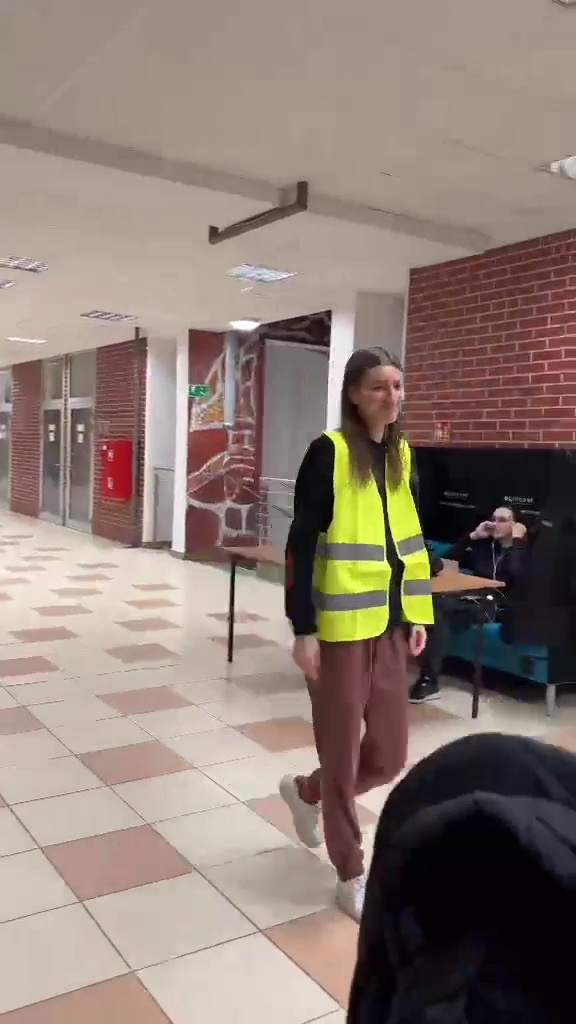no vest: (441, 499, 548, 652)
vest: (284, 346, 439, 918)
